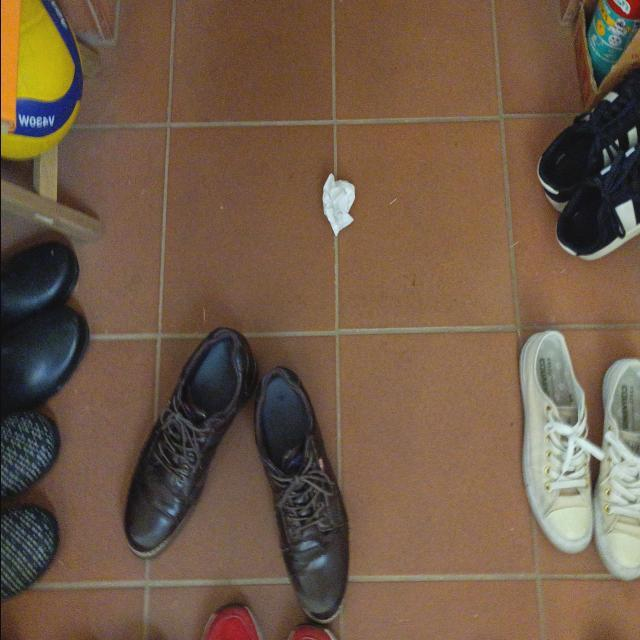Paper: (317, 154, 373, 232)
